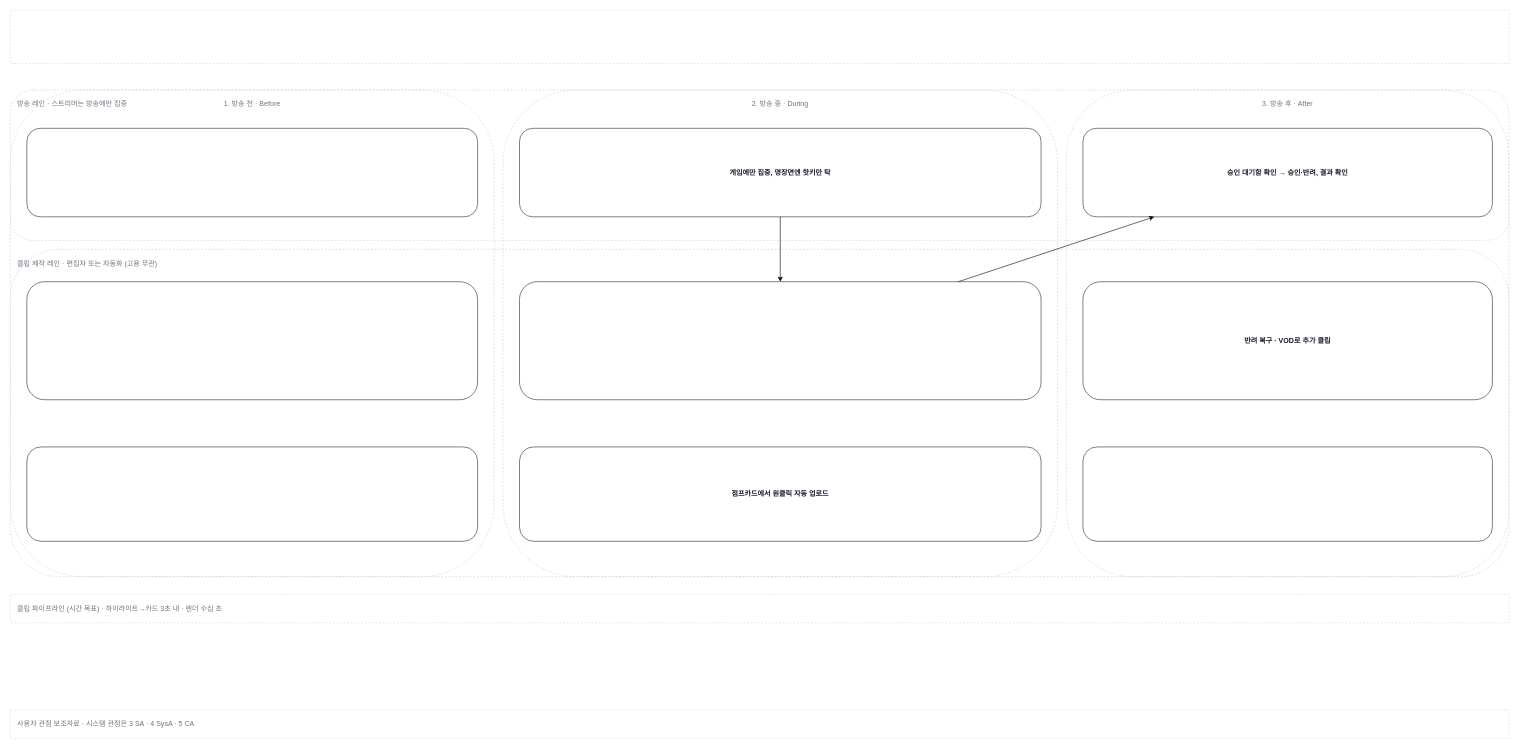
This 1519x749 diagram has some shape labels left out. Each missing label, with the centre of its shape:
OBS 켜고 방송 시작 — 준비 끝: [252,172]
PokeClip User Journey · 방송 시작부터 유튜브 게시까지: [759,36]
라이브 뷰 접속 · 대기: [252,340]
업로드 복구 · VOD 자동 생성: [1287,493]
점프카드 뜨는 즉시 클립 제작 — 방송 전에: [780,340]
템플릿이 준비된 상태: [252,493]
